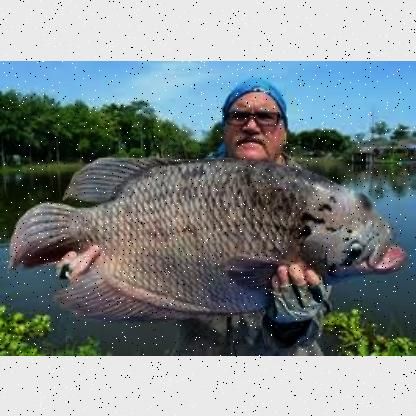gurame: (14, 154, 408, 320)
